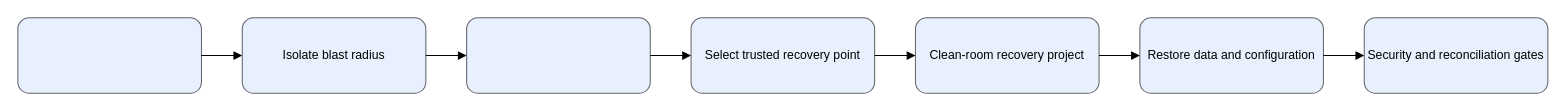
The diagram is 1566 pixels wide and 111 high, and some of its shapes have lost their labels. Here are the shapes that lost their labels. From the top down, the centre of each, then its label:
pixel 109 55: Detect and declare
pixel 558 55: Preserve evidence
